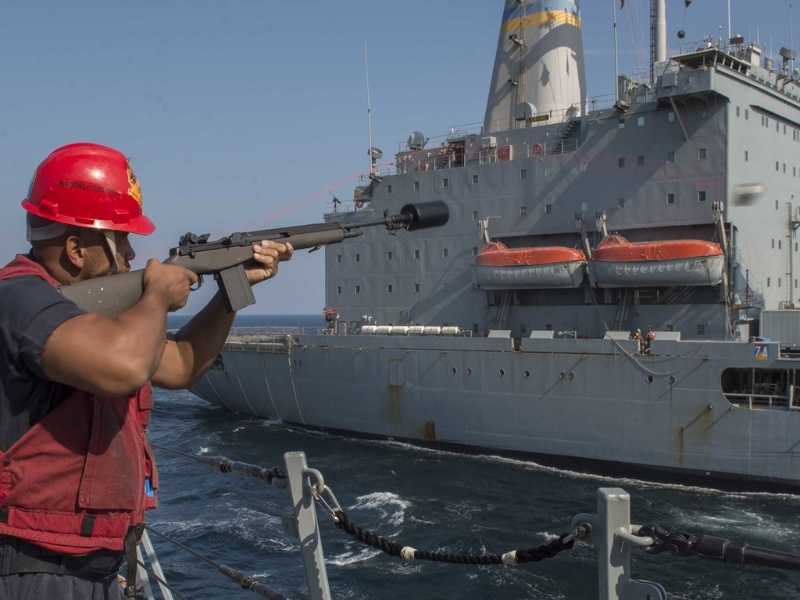Baret: (23, 143, 157, 235)
